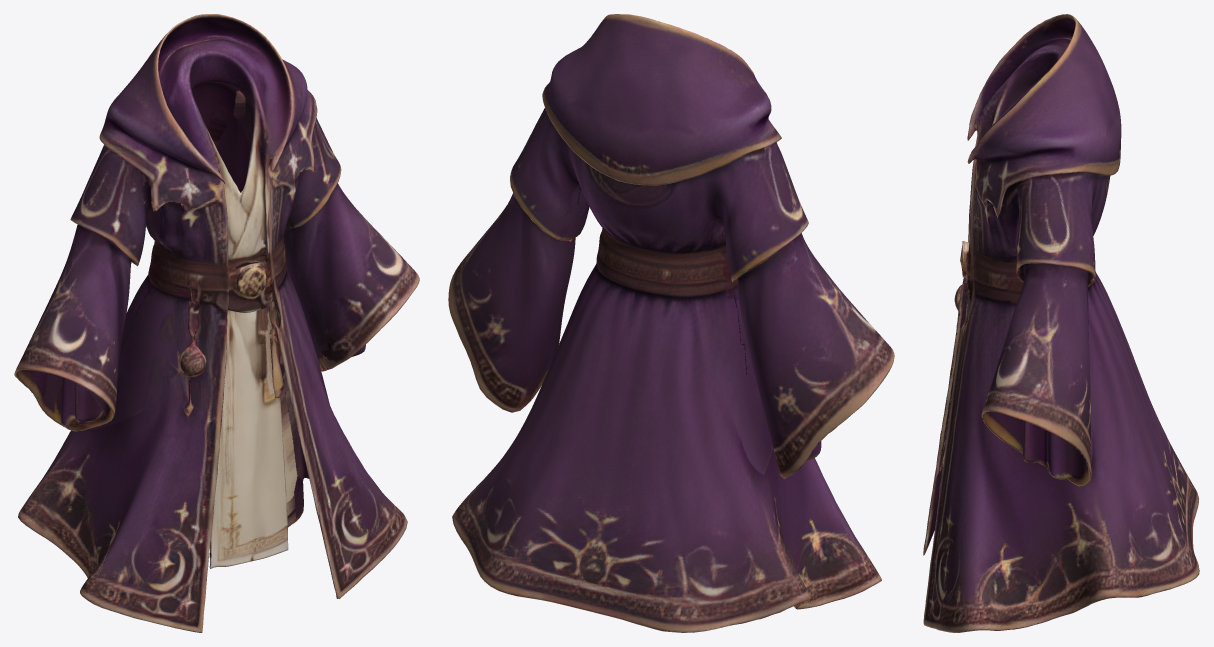
Rendered from starlight-robe.glb.
The picture shows the model from 3 angles, left to right: view 1: azimuth 30°, elevation 25°; view 2: azimuth 150°, elevation 25°; view 3: azimuth 270°, elevation 25°; orthographic projection. The views are drawn at different scales.
Parts seen in each view (by area): view 1: model; view 2: model; view 3: model.
Part boxes in pixels (box(x1,y1,x2,y2)): model: box(14, 14, 419, 632); model: box(448, 14, 894, 632); model: box(923, 14, 1199, 632).
Bounding box in the file's own units: 1.41 × 1.89 × 0.8358.
Materials: 1 (1 with a texture image).
